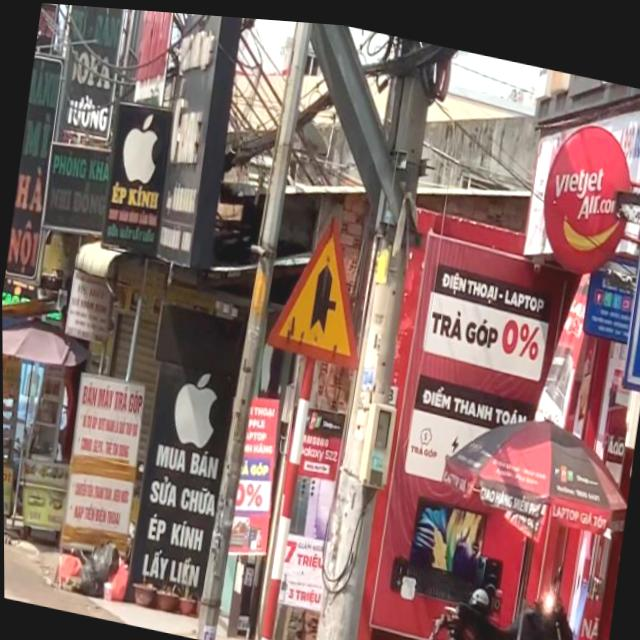Giao nhau voi duong khong uu tien ben phai: (258, 187, 385, 377)
